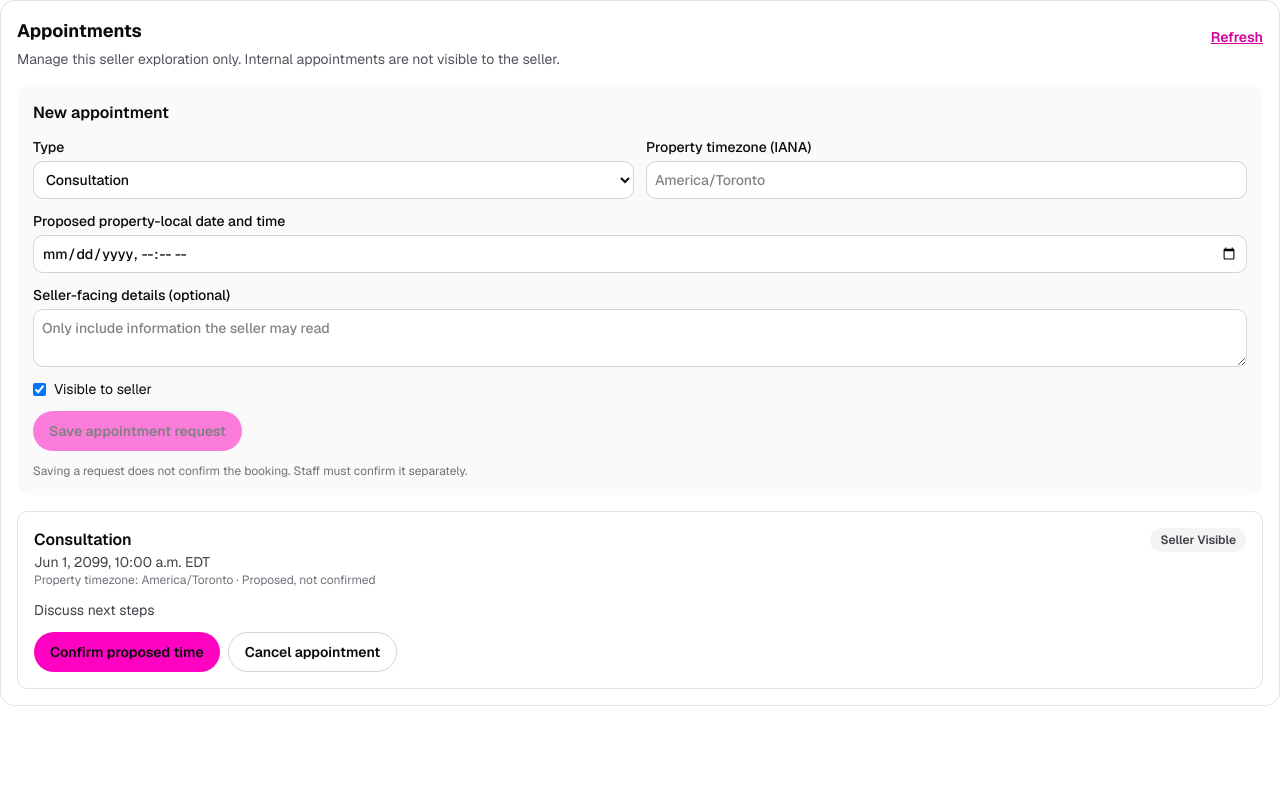
Test: stale revision closes confirmation and reloads, and reassignment removes prior staff data
Step 1. Click the button "Confirm proposed time" → (127, 652), box [34,632,220,672]
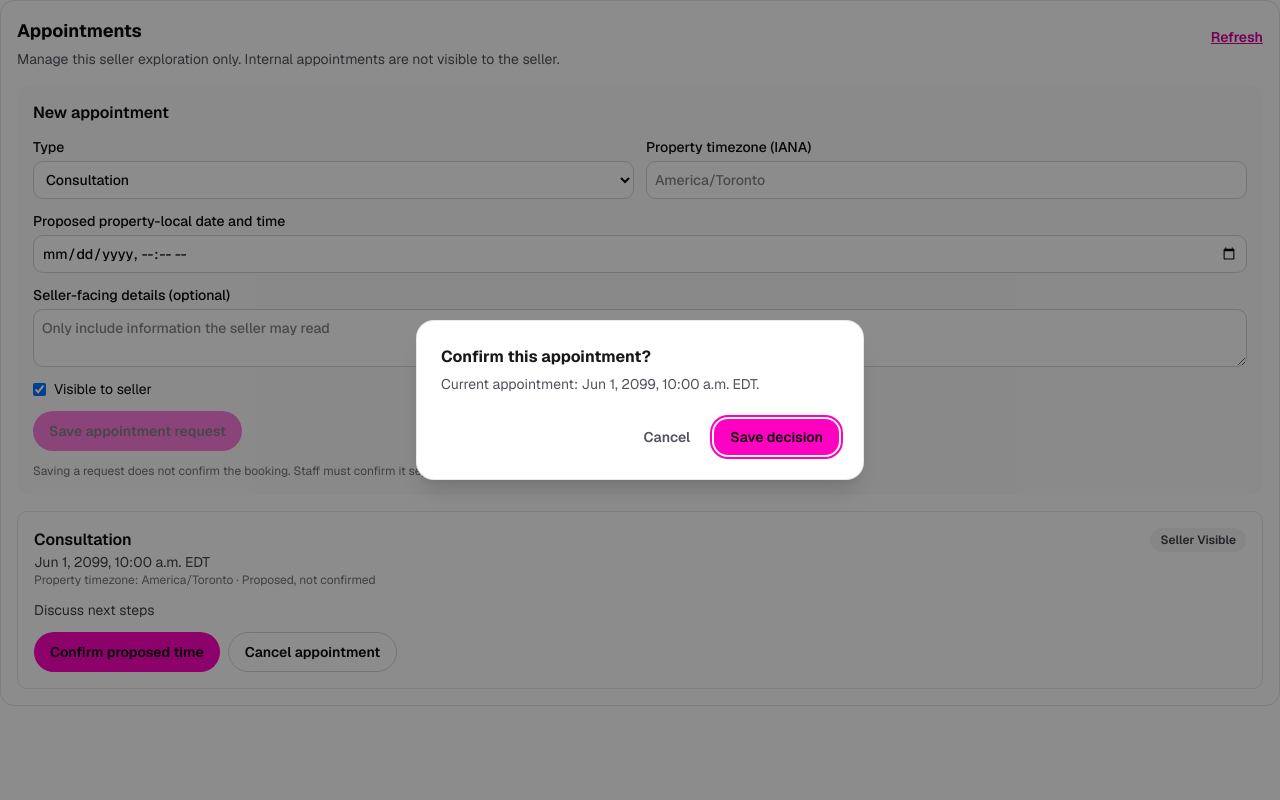
Step 2. Click the button "Save decision" → (777, 437), box [714,419,839,455]
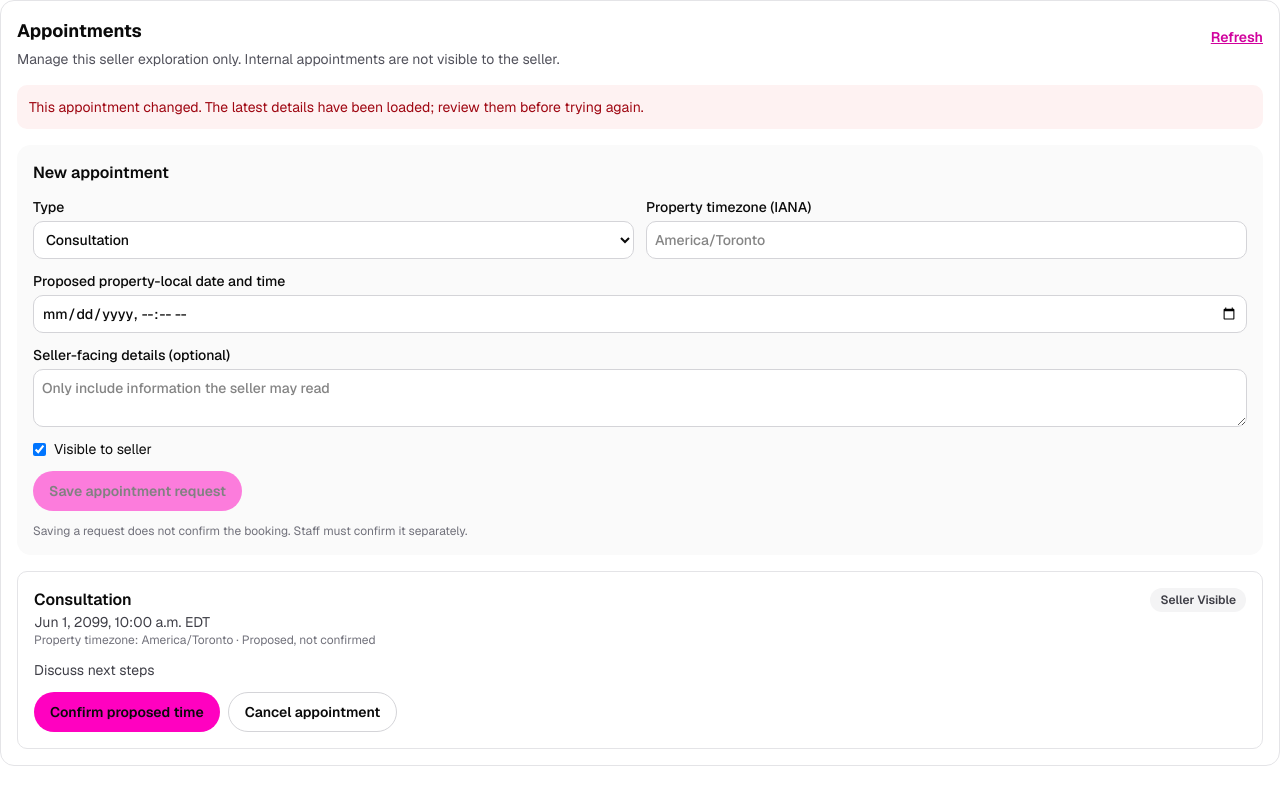
Now the dialog is gone
Step 3. Click the button "Refresh" → (1237, 37), box [1211,17,1263,57]
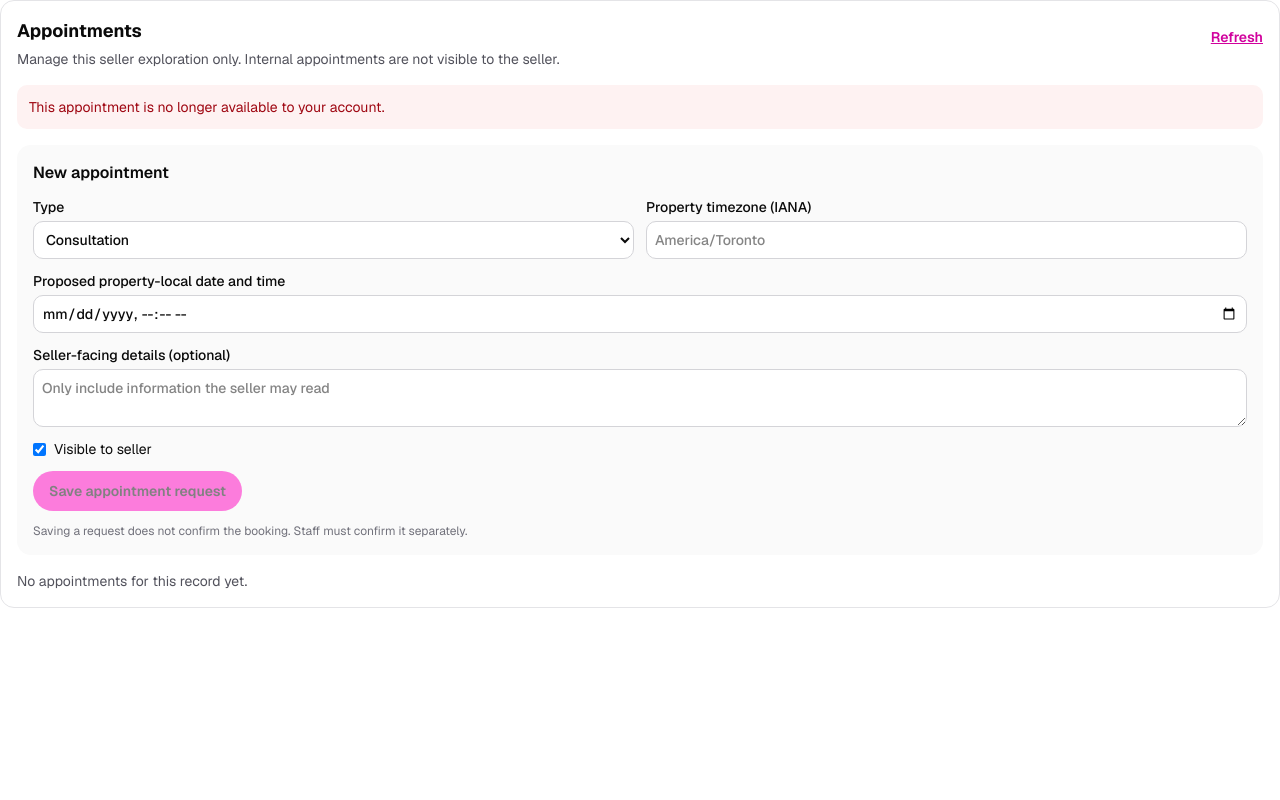
Now the button "Confirm proposed time" is gone
